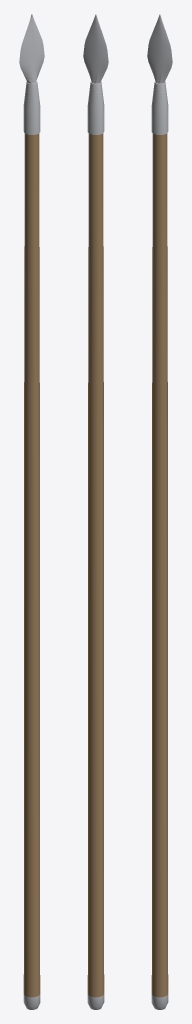
The model's file is spear.glb.
The picture shows the model from 3 angles, left to right: view 1: azimuth 30°, elevation 25°; view 2: azimuth 150°, elevation 25°; view 3: azimuth 330°, elevation 25°; orthographic projection.
Parts seen in each view (by area): view 1: OUT; view 2: OUT; view 3: OUT.
Boxes of the visible parts, <box> form: OUT: <box>19,14,44,1009</box>; OUT: <box>83,14,108,1009</box>; OUT: <box>147,14,172,1009</box>.
Bounding box in the file's own units: 0.0589 × 2.2 × 0.0323.
